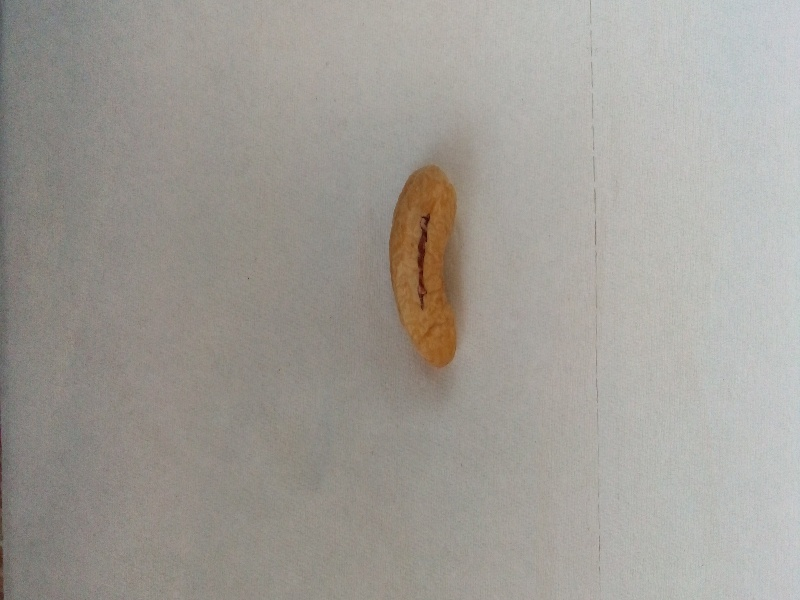cashew: (371, 147, 496, 401)
